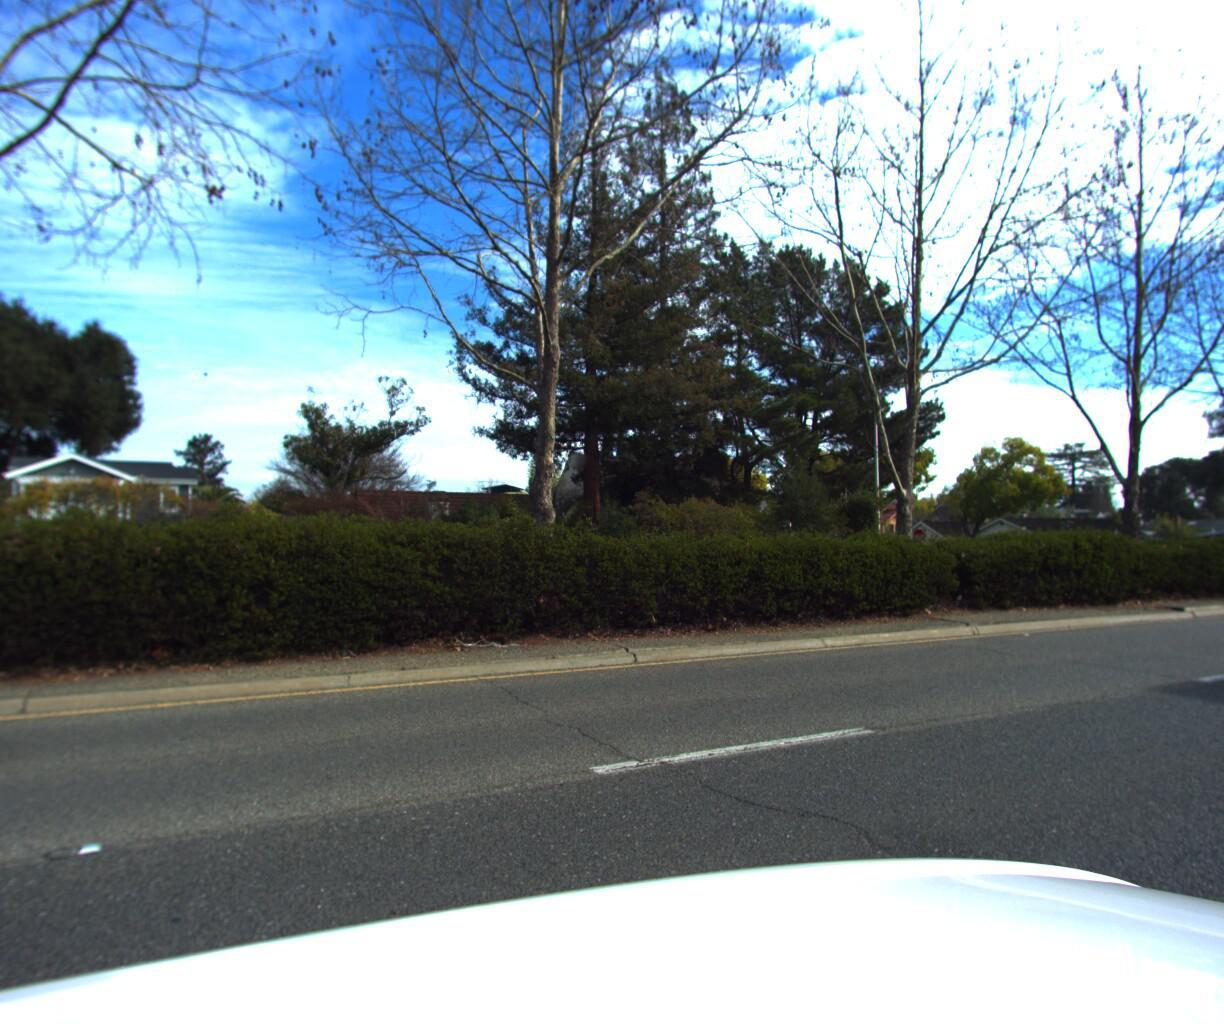car: (0, 539, 35, 988)
